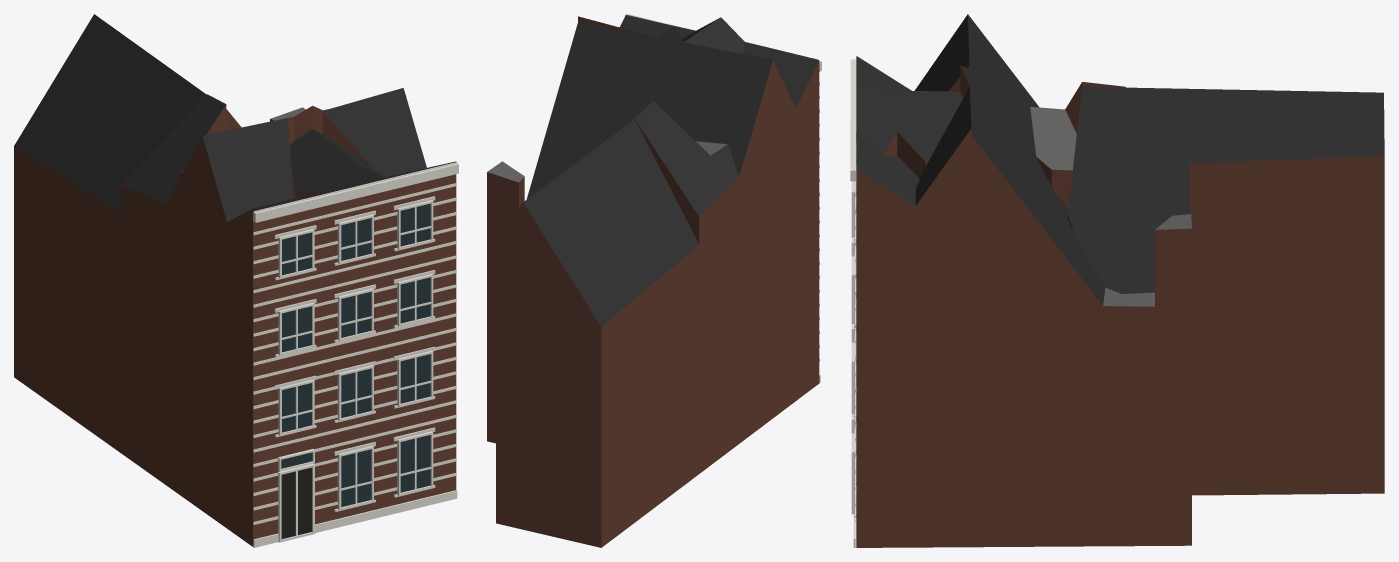
3 views of the same model, side by side, from view 1: azimuth 30°, elevation 25°; view 2: azimuth 150°, elevation 25°; view 3: azimuth 270°, elevation 25° (orthographic). The views are drawn at different scales.
Parts seen in each view (by area): view 1: spec-0363100012177826; view 2: spec-0363100012177826; view 3: spec-0363100012177826.
Part boxes in pixels (bbox=[...]): spec-0363100012177826: bbox=[14, 14, 458, 547]; spec-0363100012177826: bbox=[487, 14, 821, 547]; spec-0363100012177826: bbox=[850, 14, 1384, 547].
Size of the model in its own units: 8.28 by 14.5 by 16.36.
